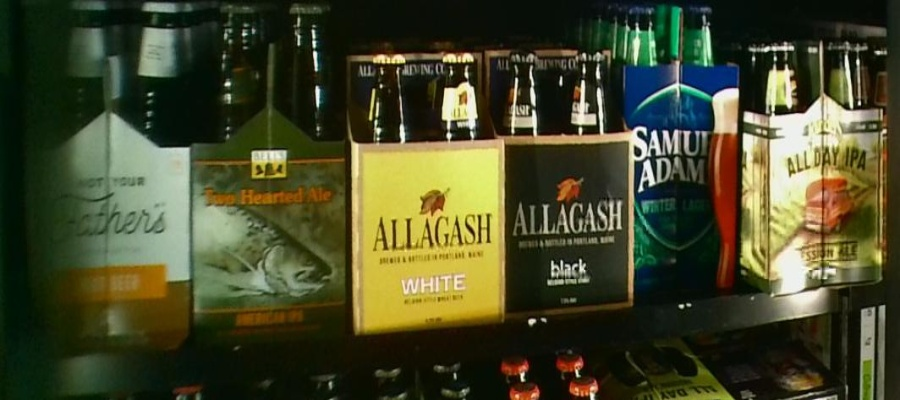bottle: (36, 1, 194, 353), (195, 10, 350, 349), (348, 49, 503, 330), (499, 47, 633, 312), (739, 41, 880, 292), (627, 2, 741, 288)
